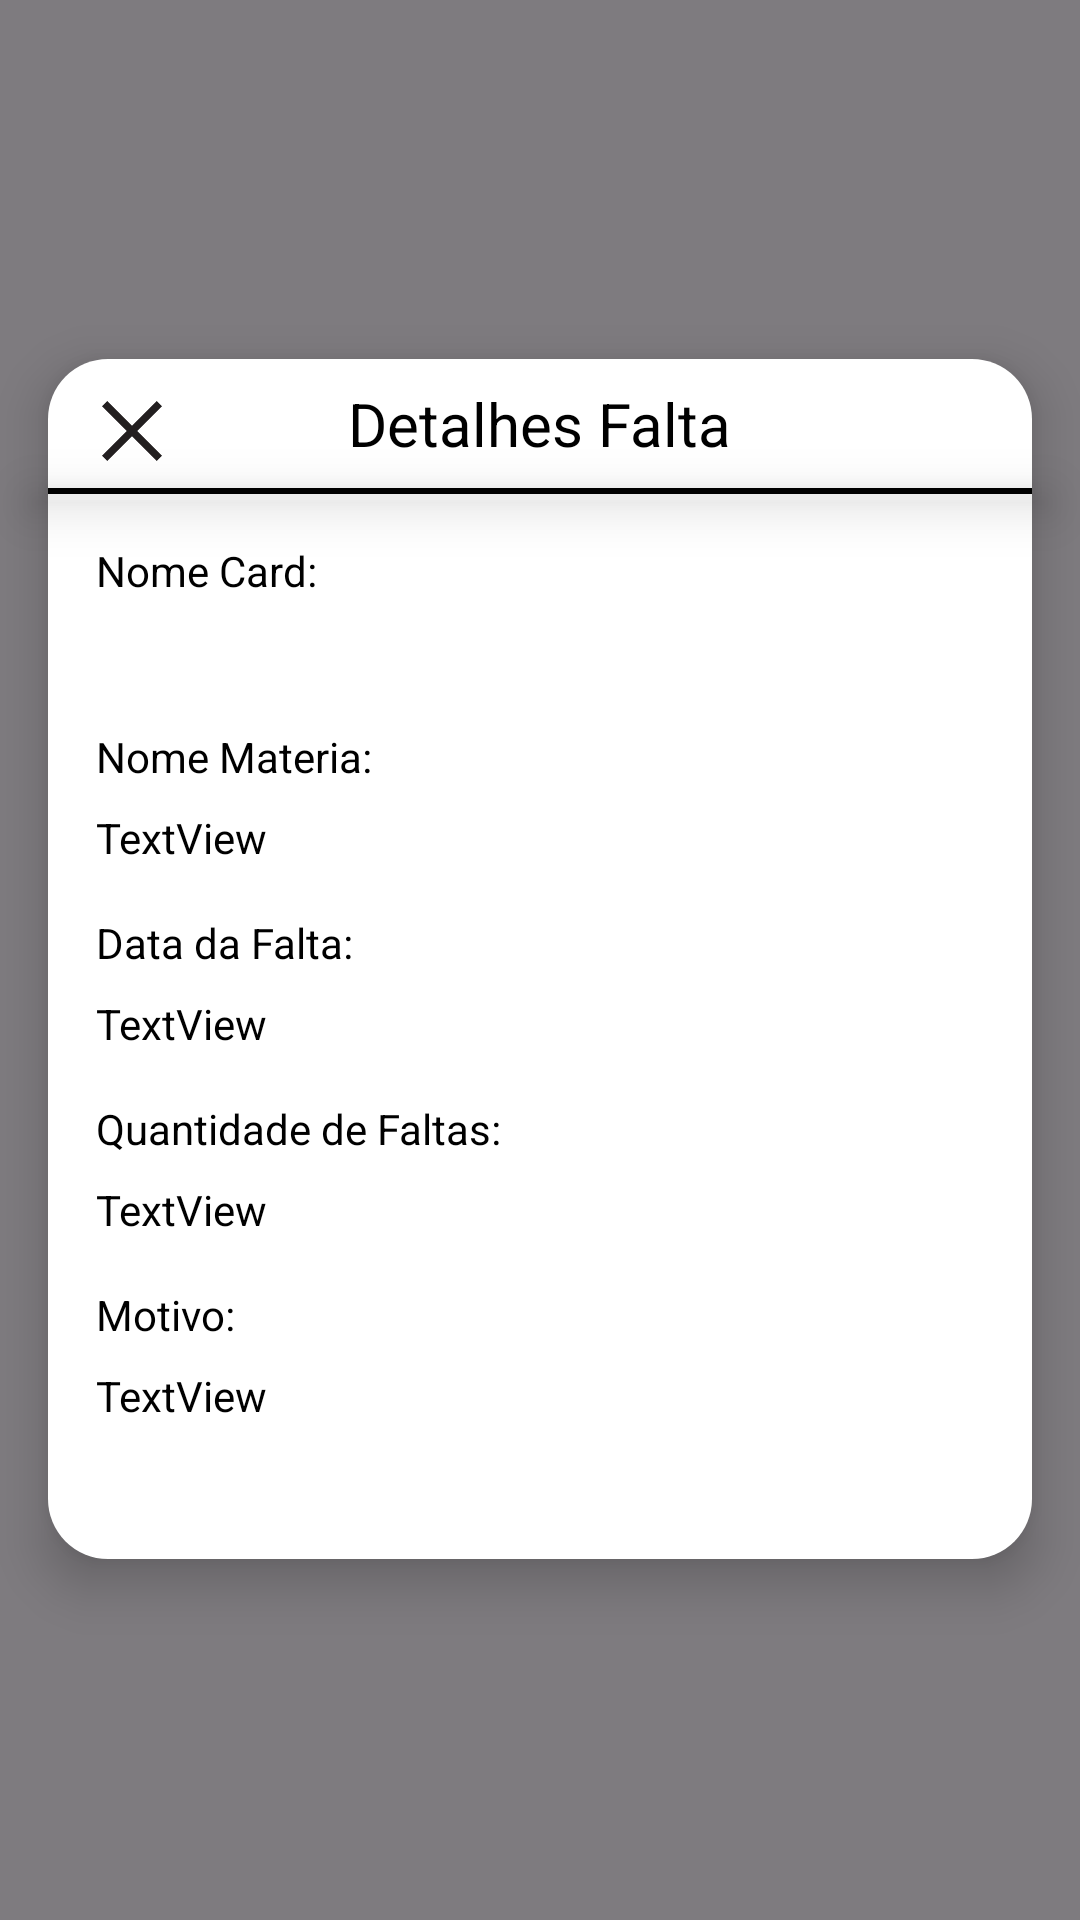

Named icons in this screenshot (1080 × 1920) and their bounding boxes, (x1, y1, x2, y2):
close: (102, 401, 162, 461)
